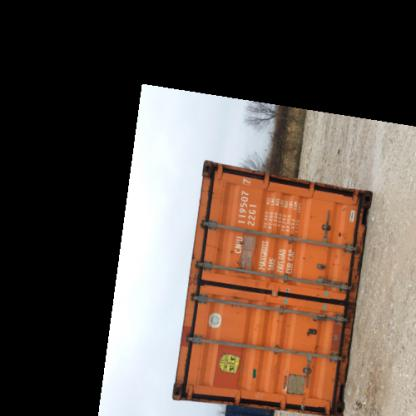Damage: (232, 266, 300, 288), (228, 219, 265, 259), (276, 366, 307, 396), (200, 158, 224, 187), (240, 356, 262, 384), (172, 374, 190, 400), (290, 326, 314, 344)
